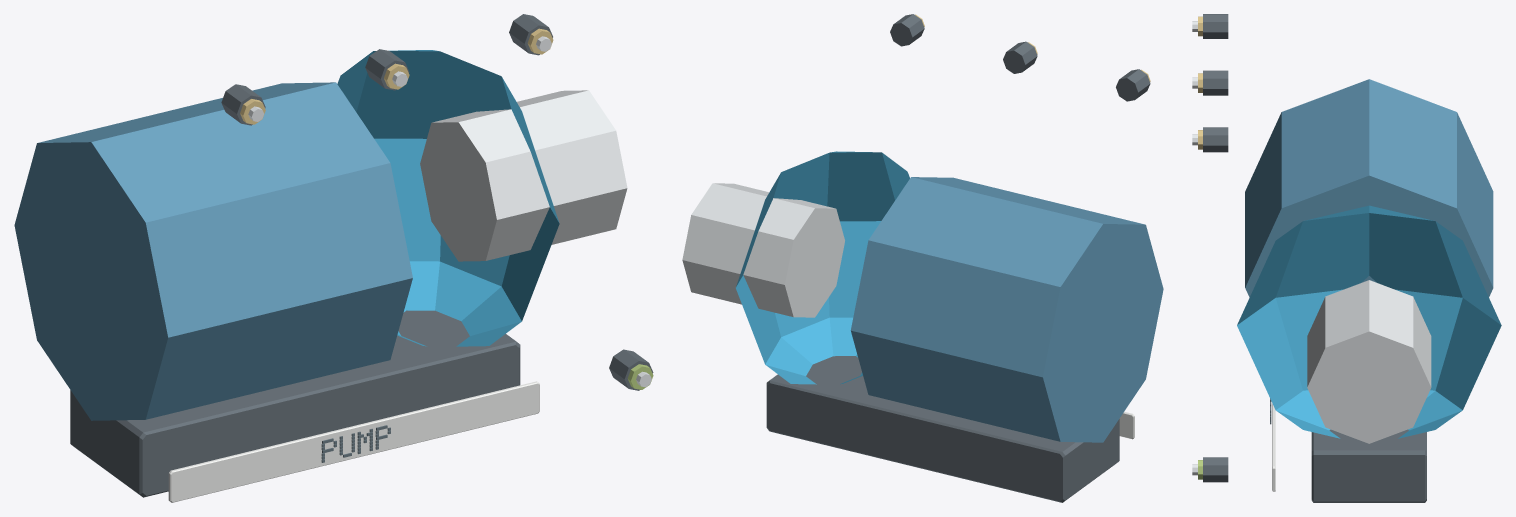
File: pump.glb
The picture shows the model from 3 angles, left to right: view 1: azimuth 30°, elevation 25°; view 2: azimuth 150°, elevation 25°; view 3: azimuth 270°, elevation 25°; orthographic projection. The views are drawn at different scales.
Parts seen in each view (by area): view 1: pump-board; view 2: pump-board; view 3: pump-board.
Boxes of the visible parts, bbox=[...] form: pump-board: bbox=[14, 14, 653, 502]; pump-board: bbox=[682, 14, 1163, 502]; pump-board: bbox=[1192, 14, 1501, 502].
Size of the model in its own units: 3.32 by 2.82 by 2.21.
